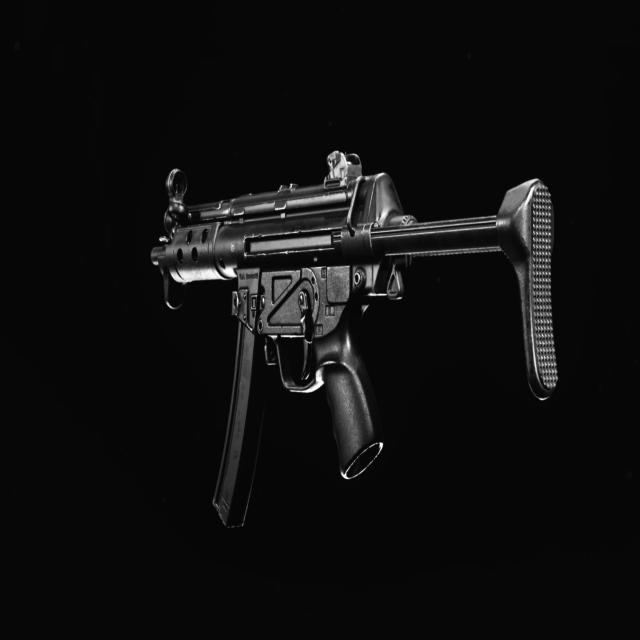Sub-machine-gun: (143, 145, 568, 550)
